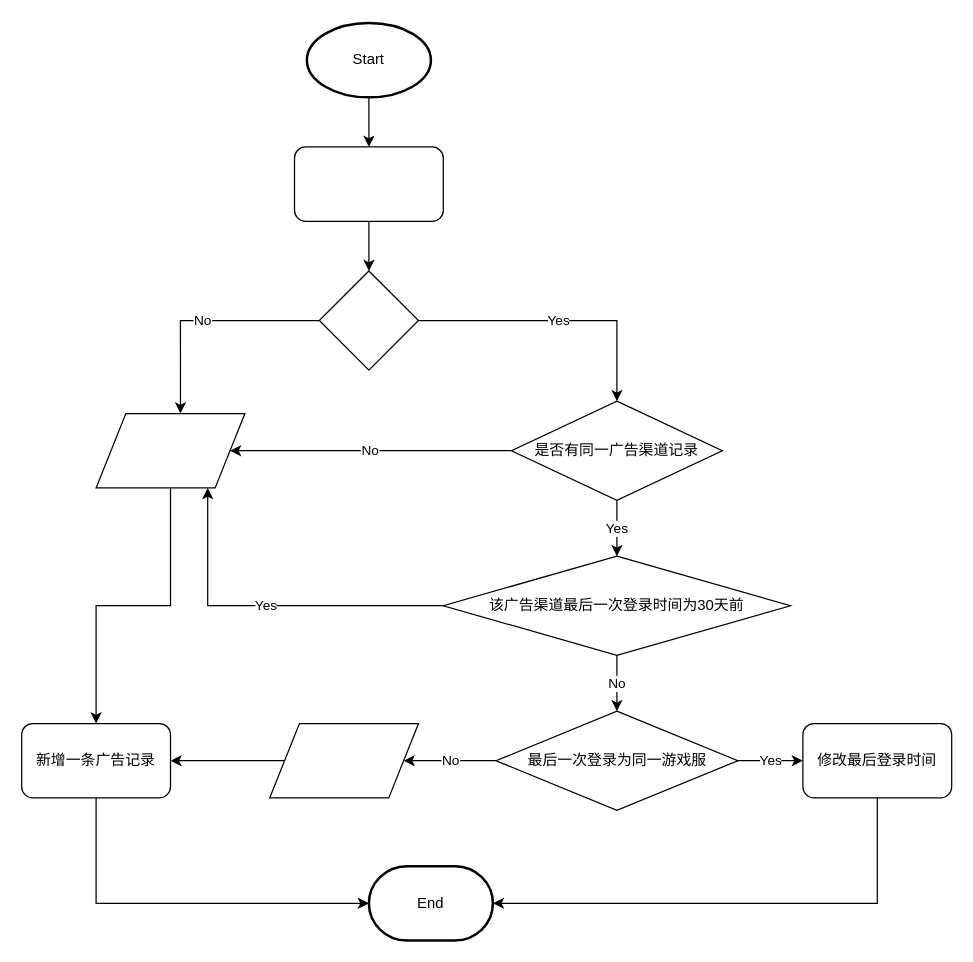
The diagram is 973 pixels wide and 962 high, and some of its shapes have lost their labels. Each missing label, with the centre of its shape:
"found？" belongs at [368,320].
"为广告二次用户" belongs at [170,450].
"为广告老用户" belongs at [343,760].
"查找用户是否玩过该游戏" belongs at [368,183].
